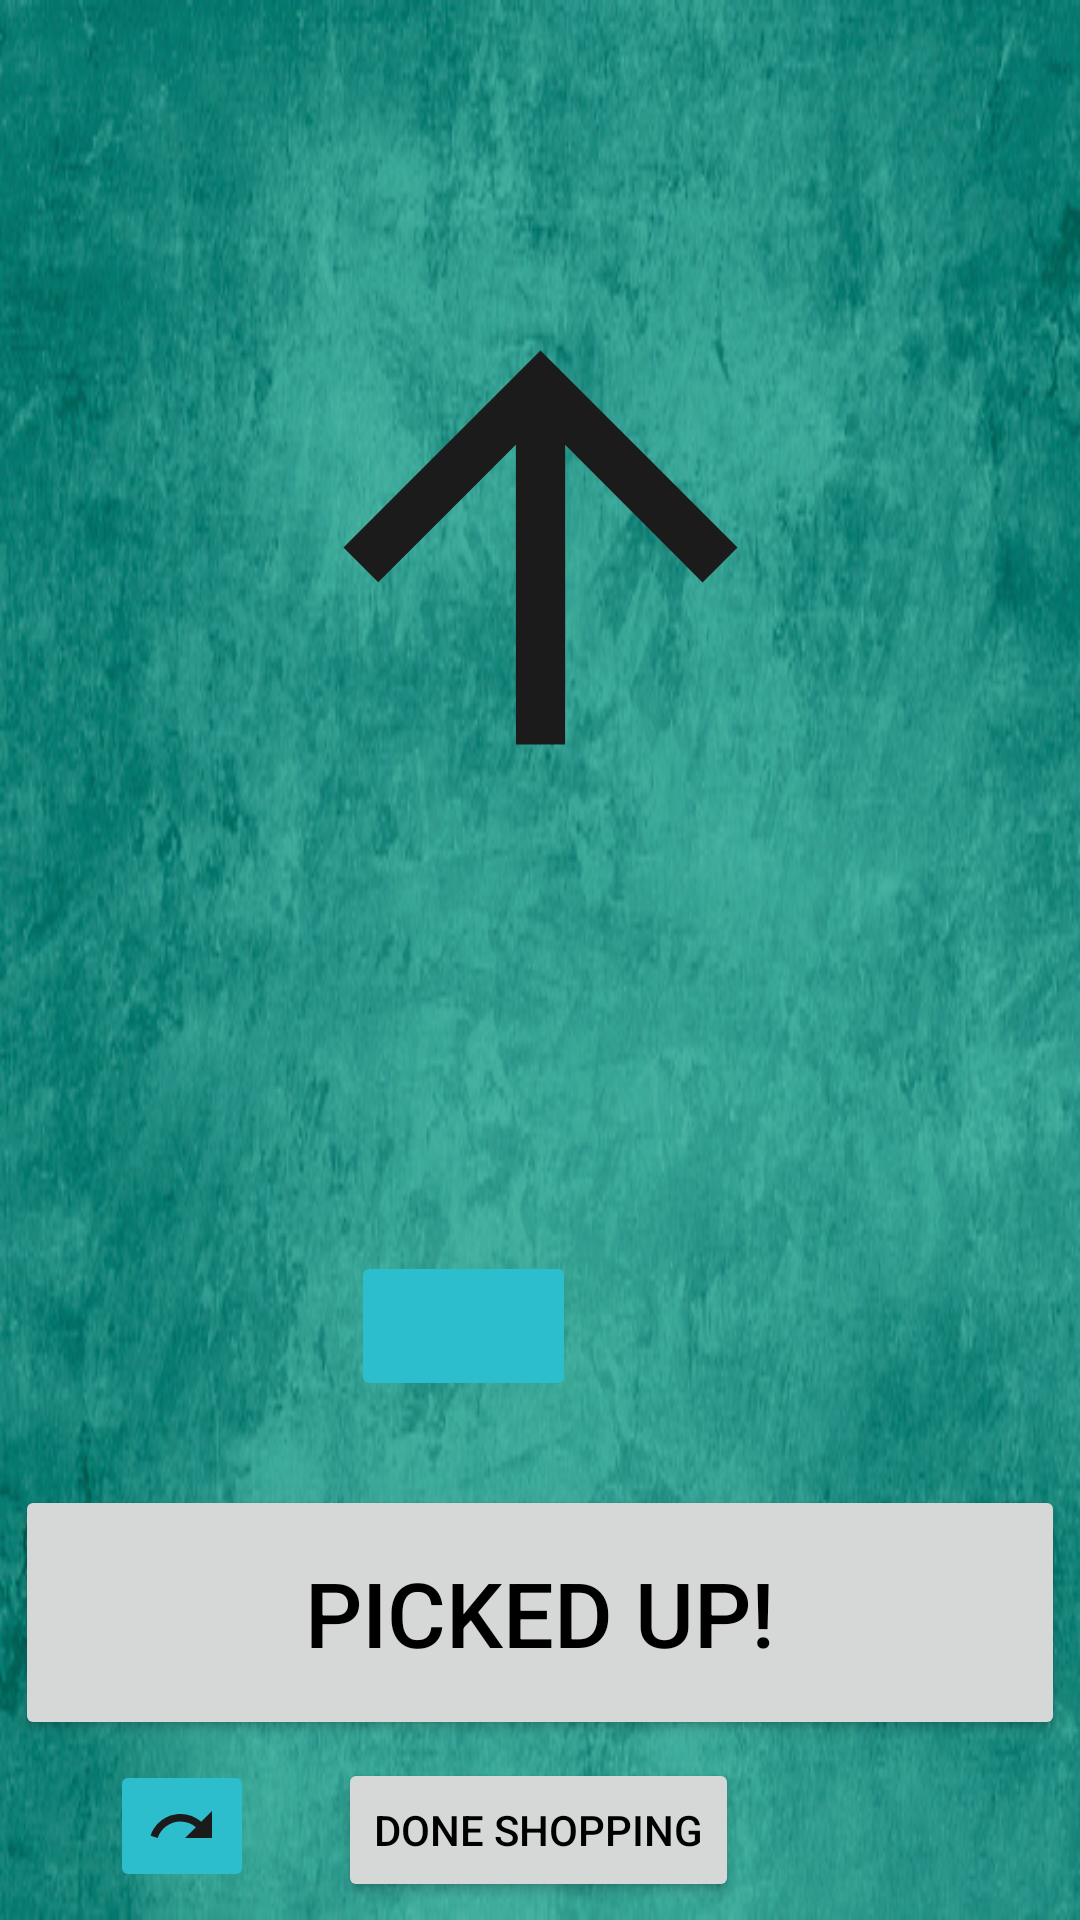

Named icons in this screenshot (1080w x 1920h) and their centers, (x,y):
redo: (176,1826)
